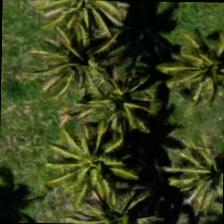Kelapa_Sawit: (47, 20, 139, 112), (71, 57, 163, 149), (45, 116, 137, 208), (154, 124, 223, 216), (75, 170, 168, 223), (173, 23, 223, 116)
